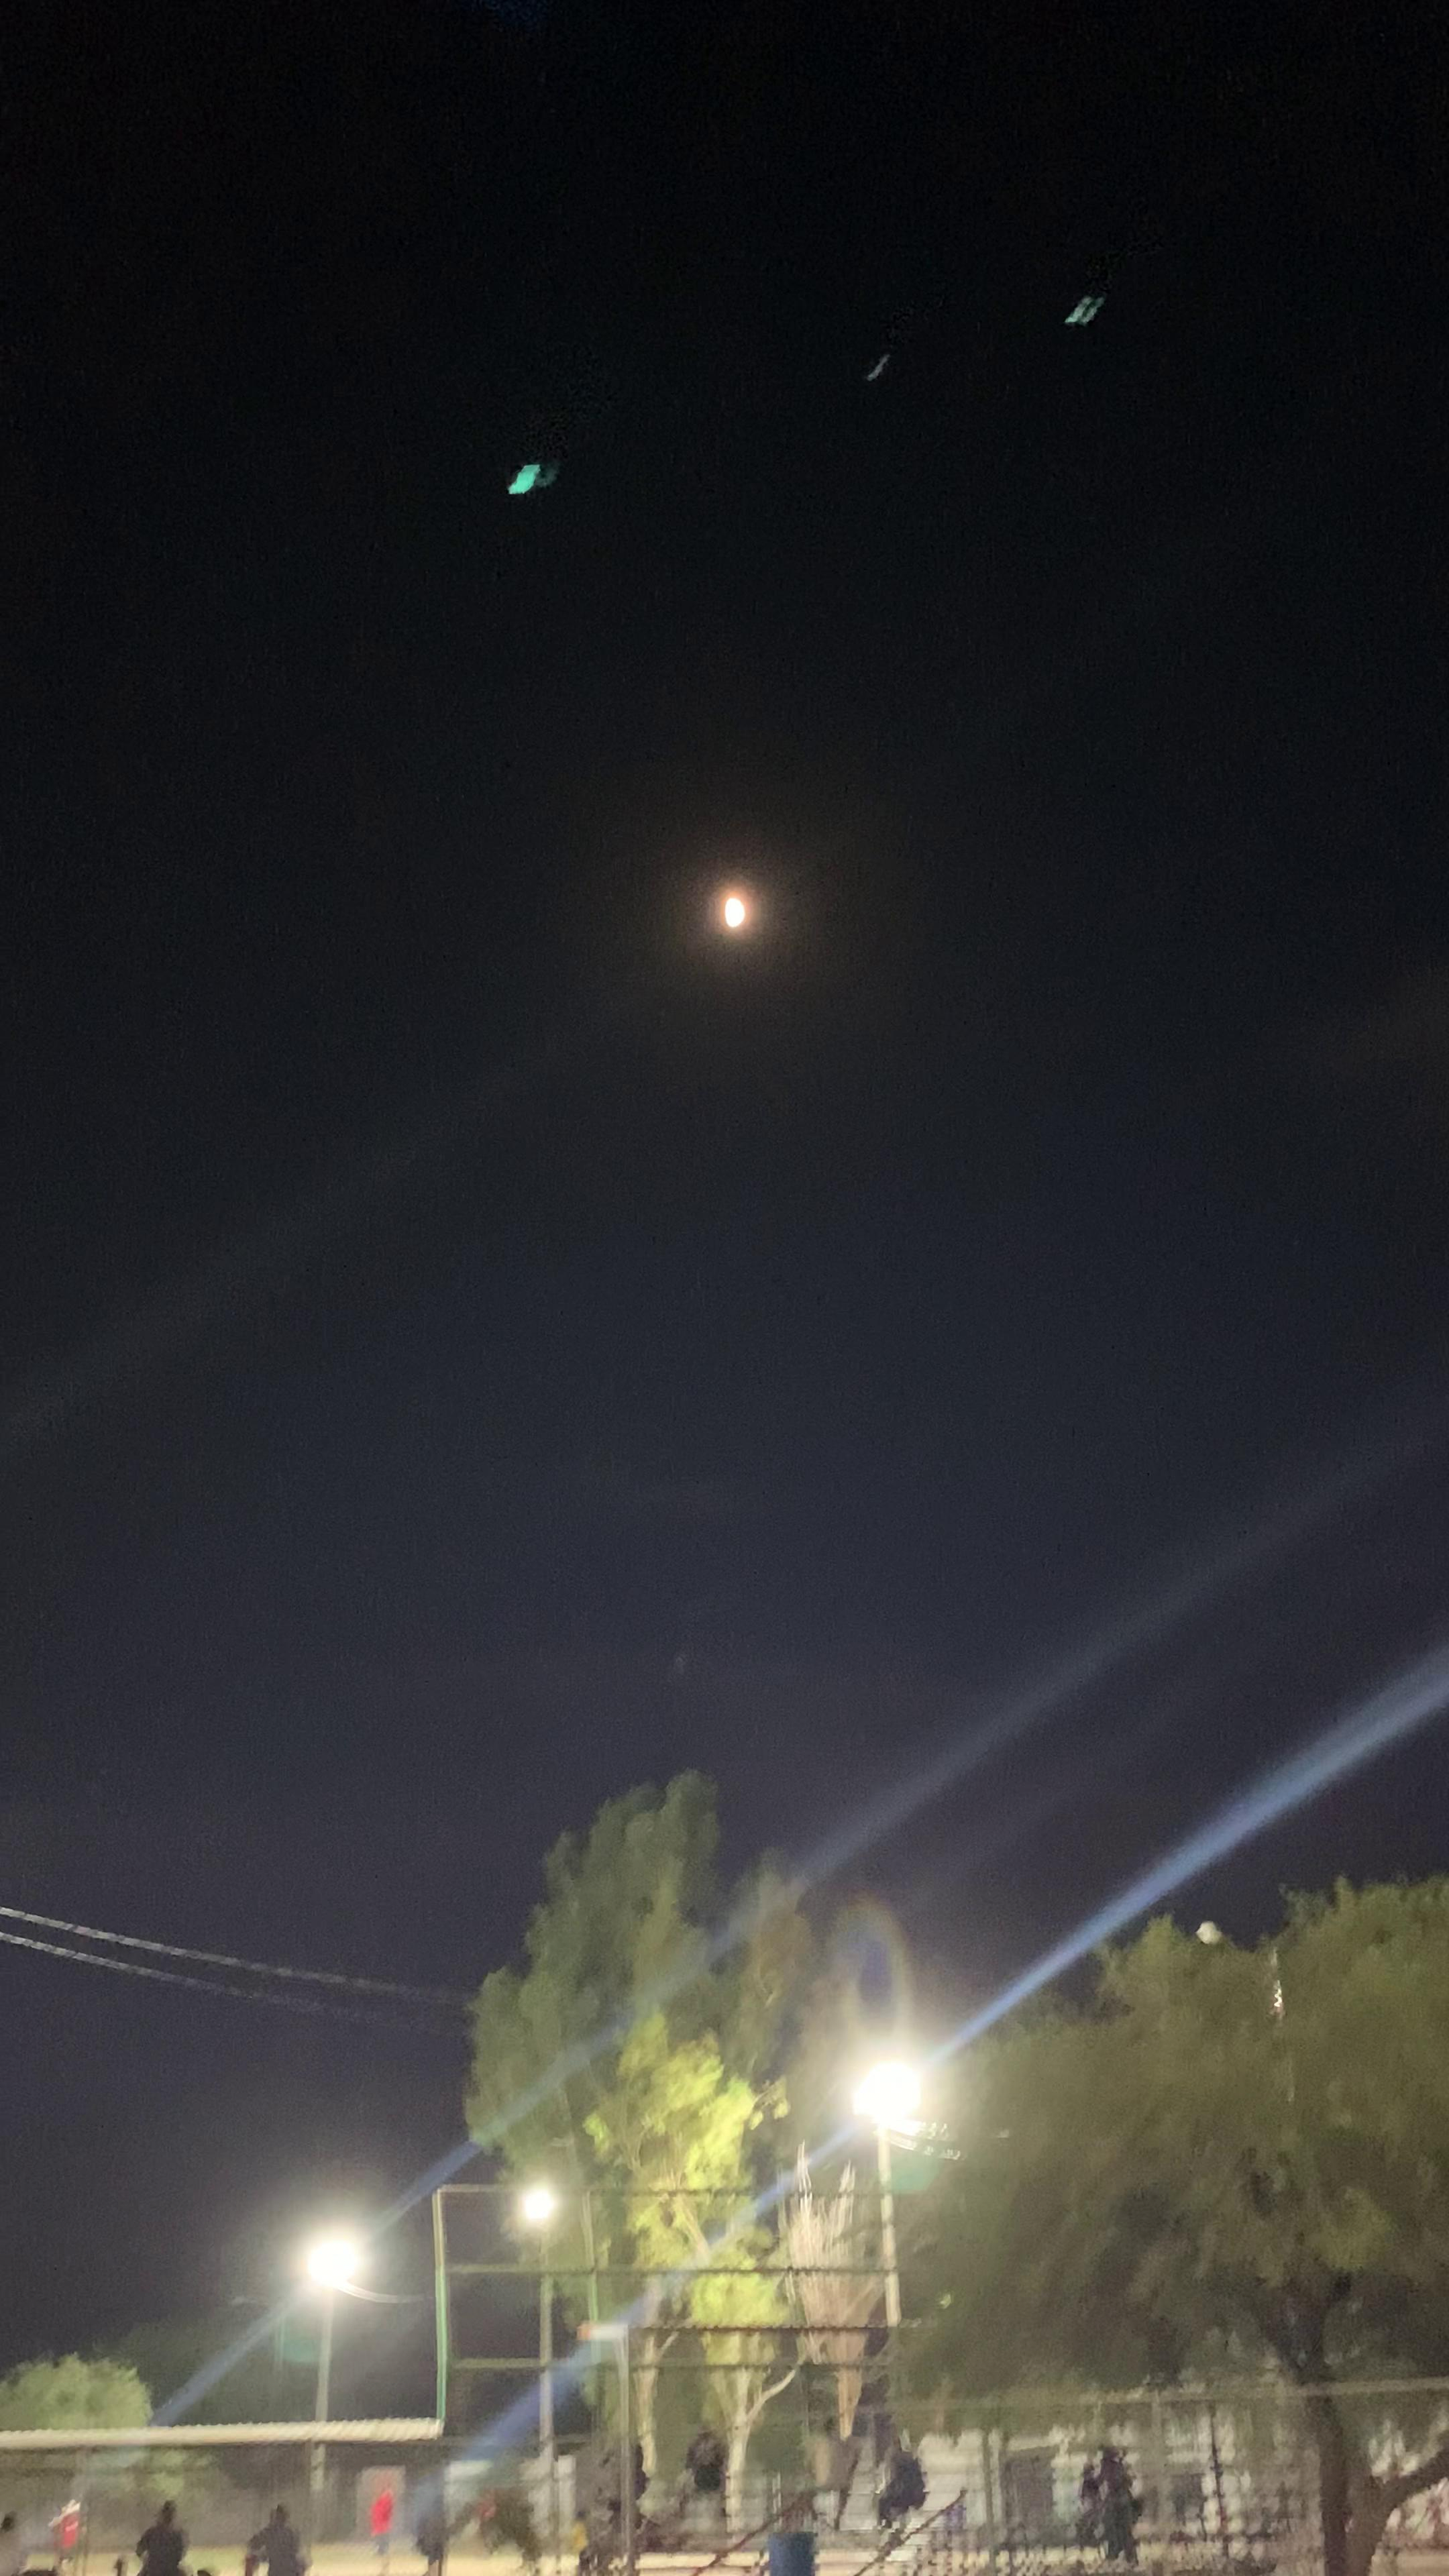moon: (660, 832, 821, 964)
